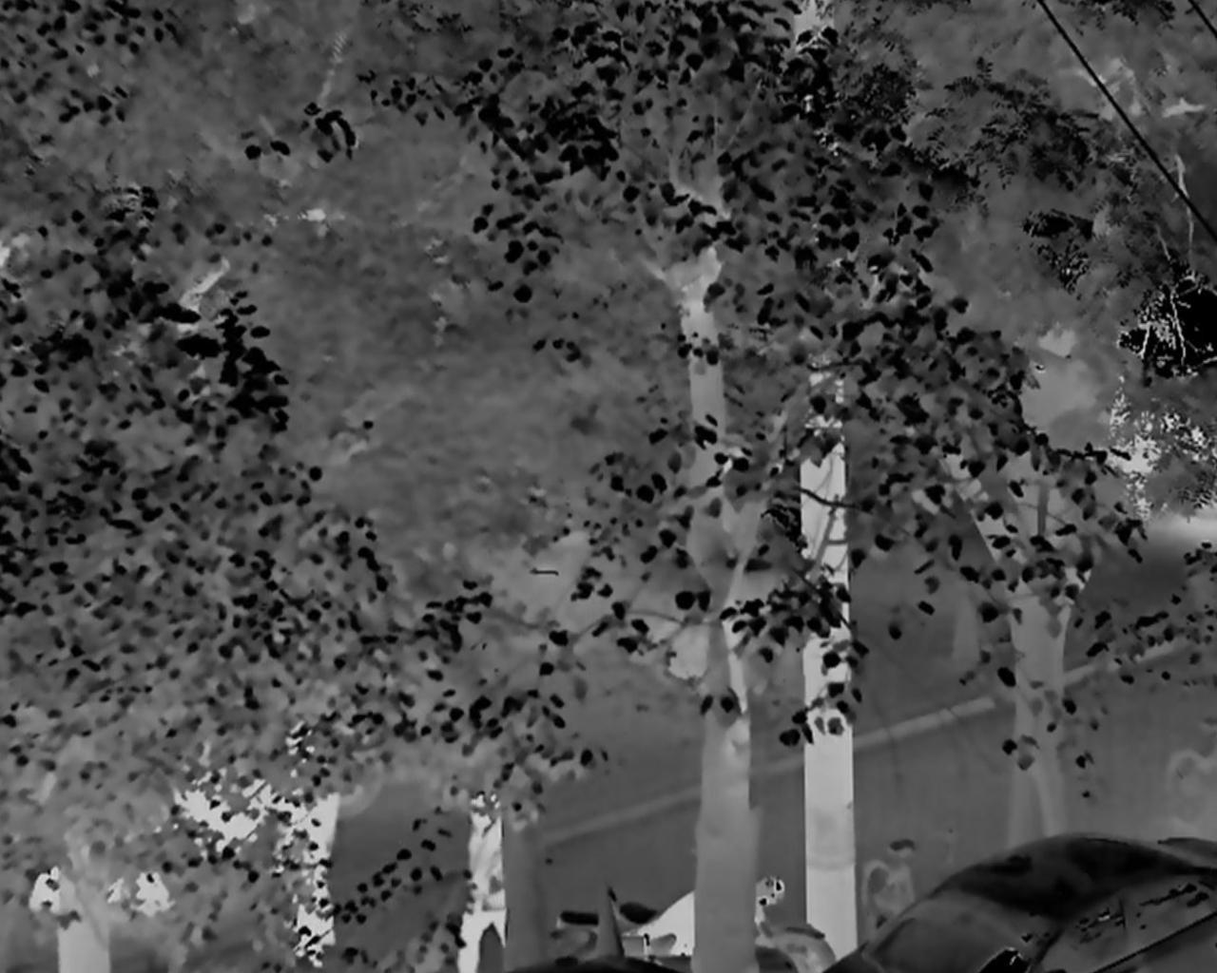person: (454, 784, 510, 973), (280, 717, 342, 861), (276, 826, 336, 967)
